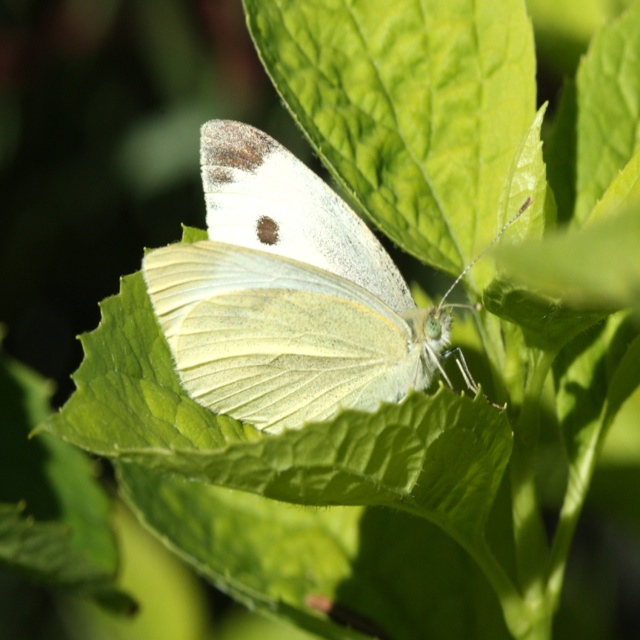Butterfly: (140, 118, 535, 436)
